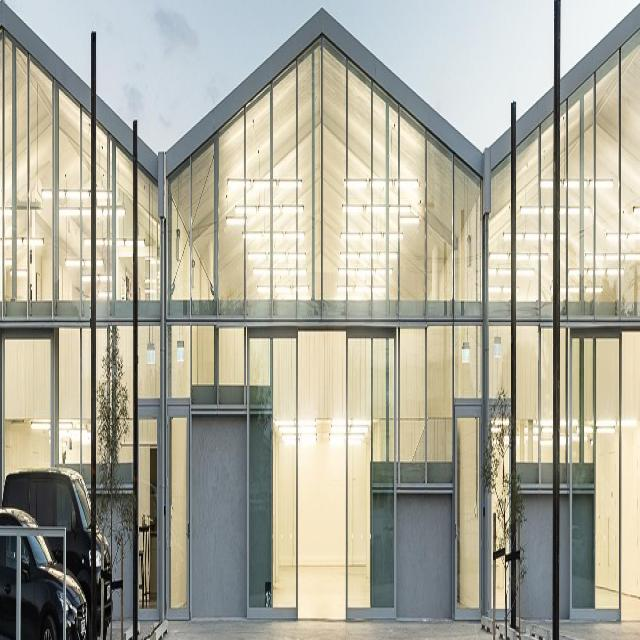door: (453, 398, 486, 639), (133, 397, 161, 639), (489, 398, 514, 639), (166, 400, 190, 632)
window: (165, 30, 640, 633), (3, 33, 160, 619)
